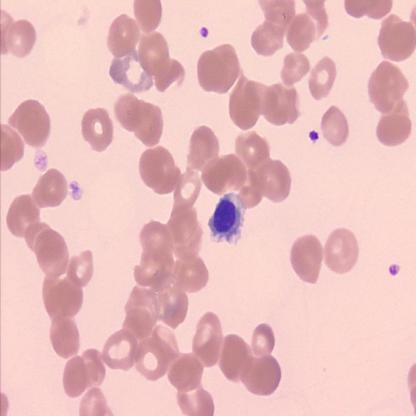NRC: (206, 191, 248, 245)
